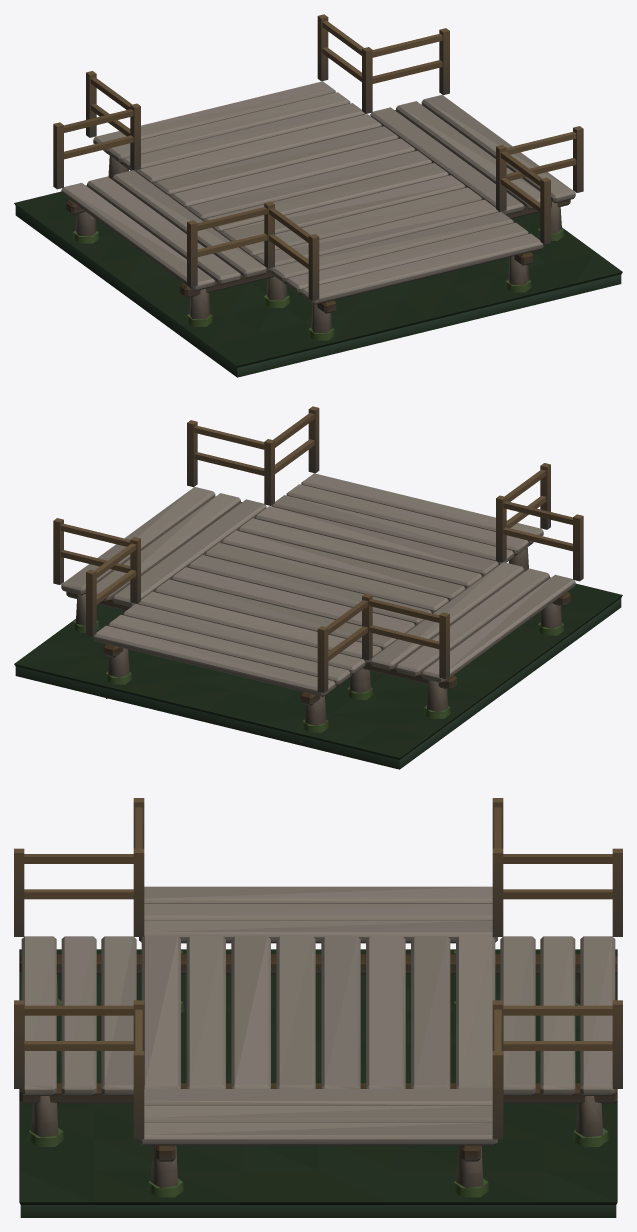
File: road-boardwalk-4way.glb
3 views of the same model, one above another, from view 1: azimuth 30°, elevation 25°; view 2: azimuth 150°, elevation 25°; view 3: azimuth 270°, elevation 25° (orthographic). The views are drawn at different scales.
Visible parts, largest first — view 1: road_boardwalk_4way; view 2: road_boardwalk_4way; view 3: road_boardwalk_4way.
Boxes of the visible parts, x1,y1,x2,y2 form: road_boardwalk_4way: (14,14,622,377); road_boardwalk_4way: (14,406,622,769); road_boardwalk_4way: (14,798,622,1217).
Bounding box in the file's own units: 4.07 × 1.25 × 4.07.
